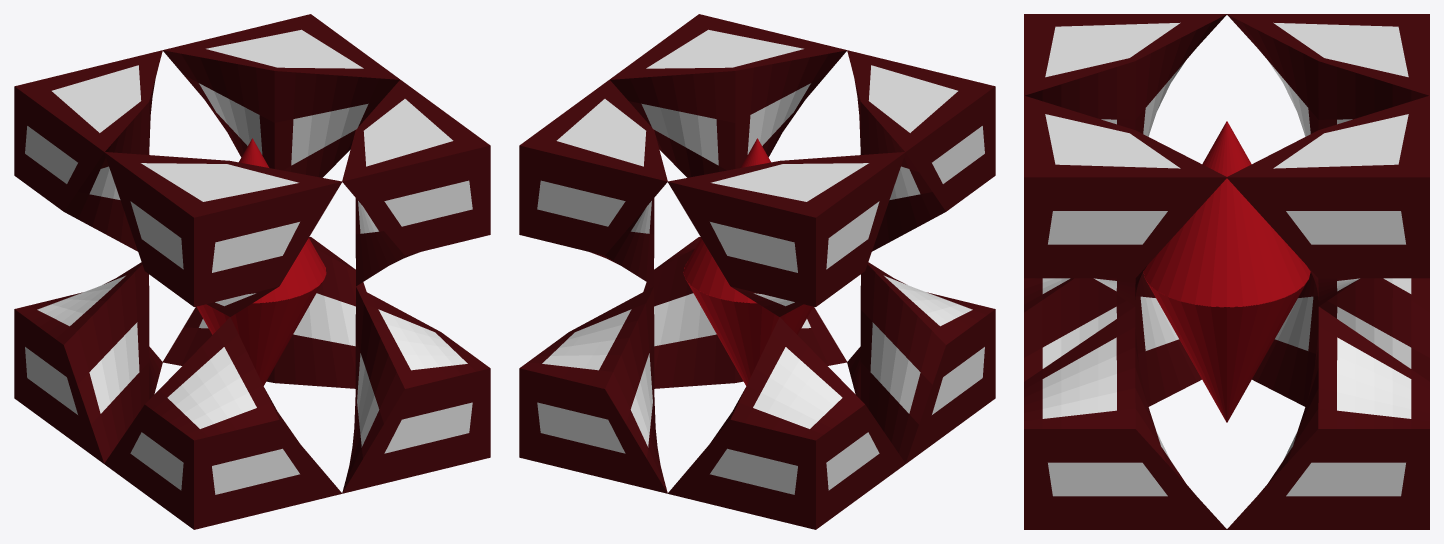
File: Artifact damage.fbx
The picture shows the model from 3 angles, left to right: view 1: azimuth 30°, elevation 25°; view 2: azimuth 150°, elevation 25°; view 3: azimuth 270°, elevation 25°; orthographic projection. The views are drawn at different scales.
Visible parts, largest first — view 1: Cube, Cone; view 2: Cube, Cone; view 3: Cube, Cone.
Boxes of the visible parts, x1,y1,x2,y2 form: Cube: [14, 14, 490, 529]; Cone: [196, 138, 326, 385]; Cube: [519, 14, 995, 529]; Cone: [683, 138, 813, 385]; Cube: [1024, 14, 1429, 529]; Cone: [1143, 121, 1310, 422].
Bounding box in the file's own units: 694 × 698 × 728.
